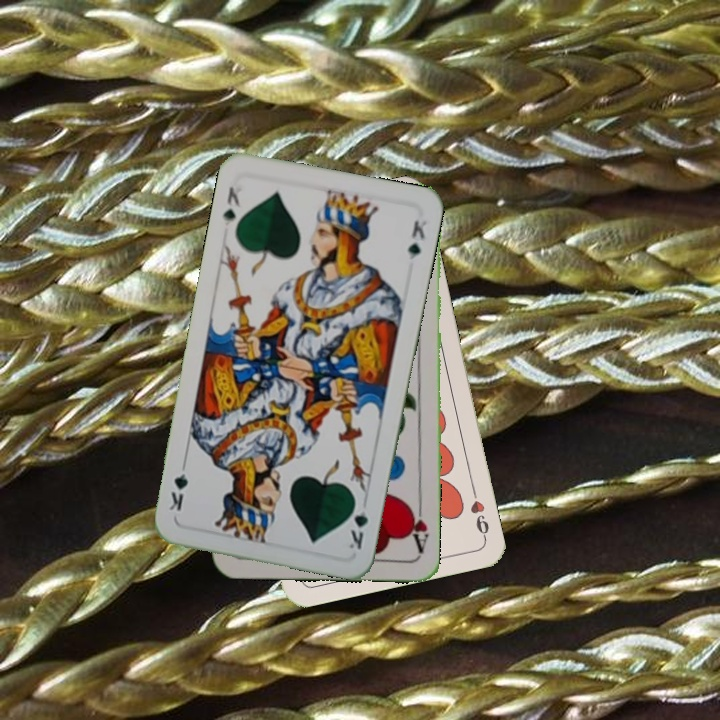GK: (345, 494, 371, 552), (219, 183, 243, 228)
H9: (466, 483, 492, 541)
HA: (404, 497, 431, 556)
